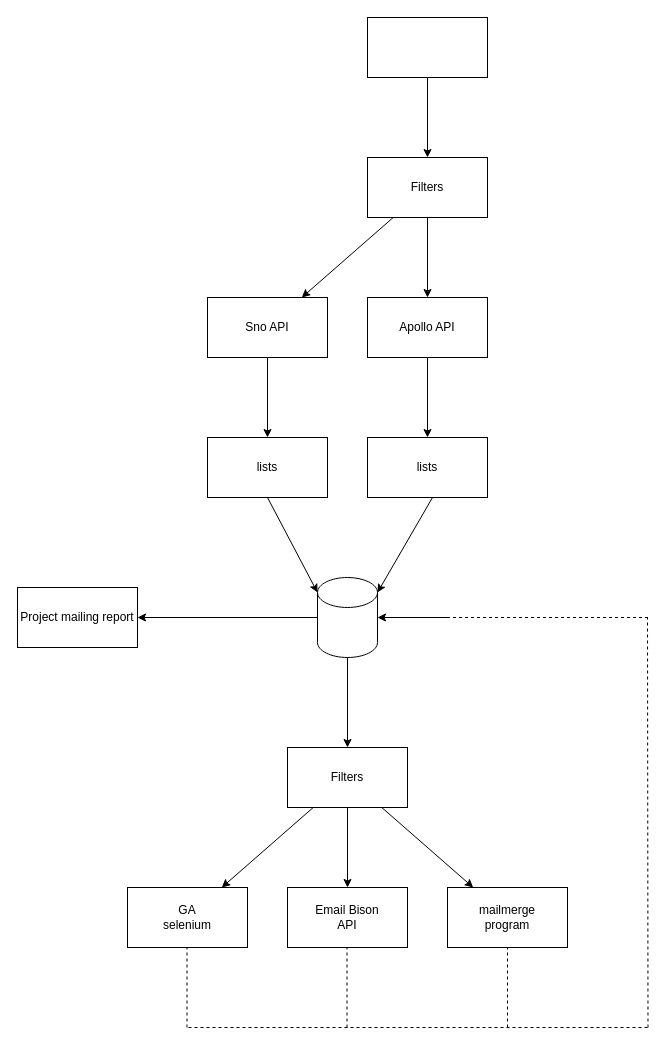
Image size: 667x1046. Some labels were removed from this diagram. Each missing label, with the box of its shape:
DB: (316, 576, 378, 658)
Project: (366, 16, 488, 78)
